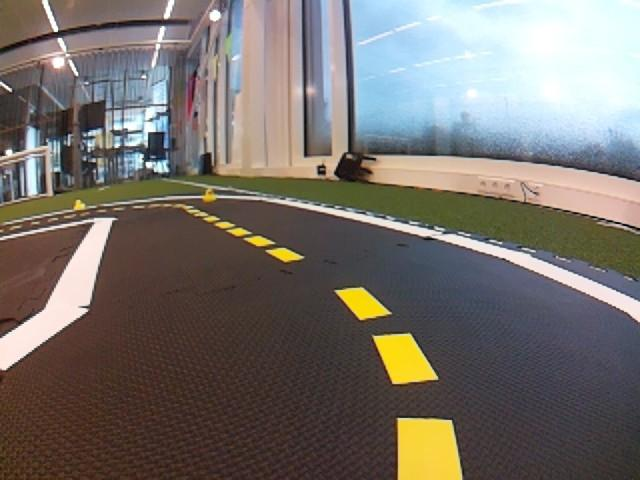Duckies: (202, 190, 217, 202), (72, 199, 85, 211)
